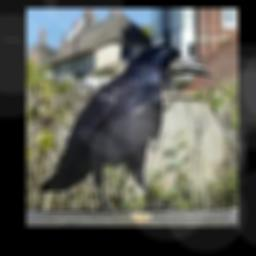Crow: (41, 42, 215, 212)
